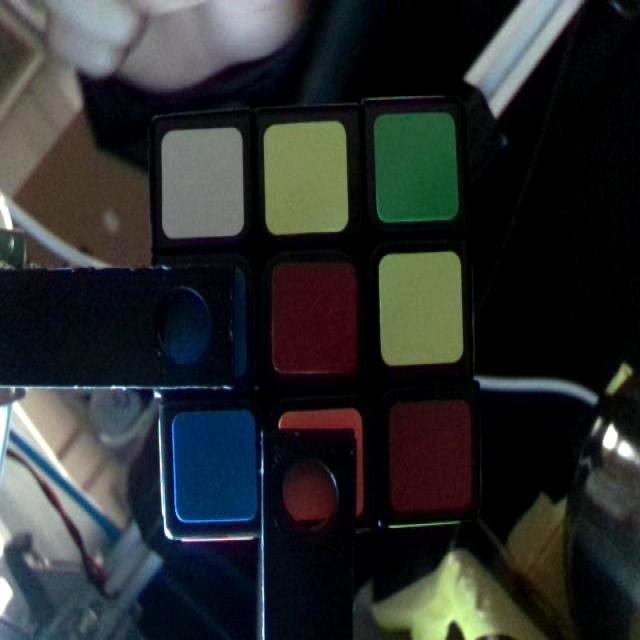b: (174, 417, 254, 517), (168, 274, 242, 371)
g: (374, 116, 456, 218)
o: (278, 410, 361, 520)
r: (388, 406, 469, 511), (276, 269, 356, 373)
w: (160, 130, 243, 235)
y: (265, 124, 350, 229), (380, 257, 458, 362)
